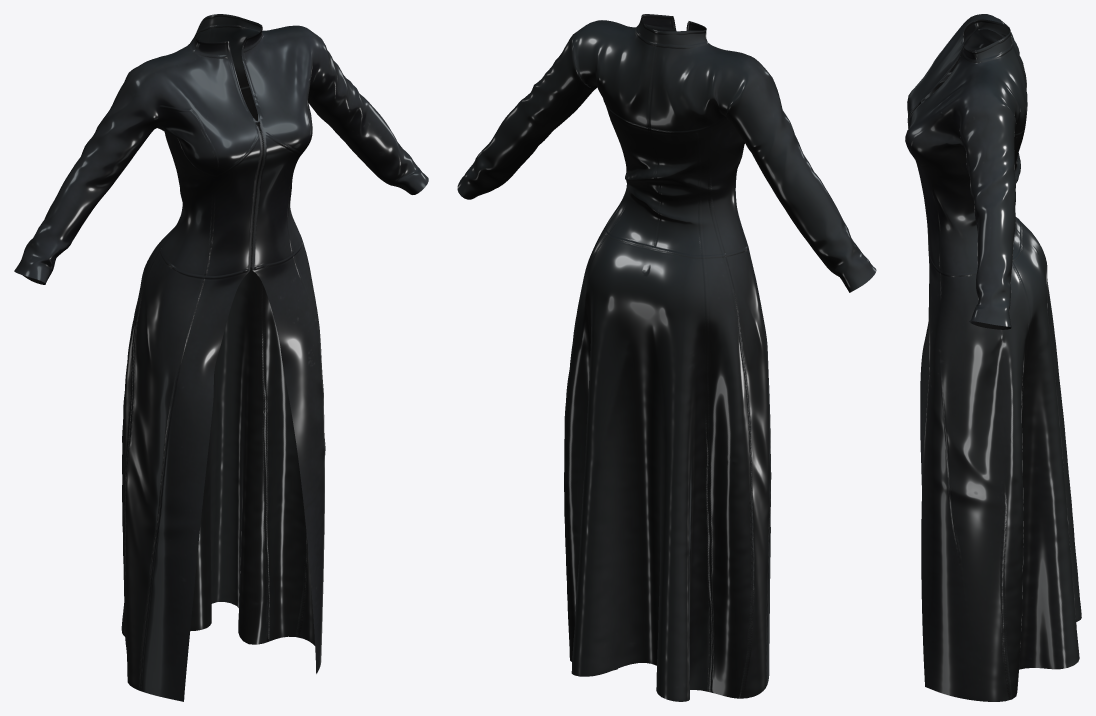
File: latex.glb
3 views of the same model, side by side, from view 1: azimuth 30°, elevation 25°; view 2: azimuth 150°, elevation 25°; view 3: azimuth 270°, elevation 25° (orthographic). The views are drawn at different scales.
Visible parts, largest first — view 1: Shiny_Black_Latex_Leather_Standing_Collar_Long_Trinity_Coat; view 2: Shiny_Black_Latex_Leather_Standing_Collar_Long_Trinity_Coat; view 3: Shiny_Black_Latex_Leather_Standing_Collar_Long_Trinity_Coat.
Part boxes in pixels (left/top/right/bottom): Shiny_Black_Latex_Leather_Standing_Collar_Long_Trinity_Coat: left=14, top=14, right=428, bottom=701; Shiny_Black_Latex_Leather_Standing_Collar_Long_Trinity_Coat: left=457, top=14, right=876, bottom=701; Shiny_Black_Latex_Leather_Standing_Collar_Long_Trinity_Coat: left=905, top=14, right=1081, bottom=701.
Size of the model in its own units: 1.02 by 1.55 by 0.3942.
1 material, 1 textured.
